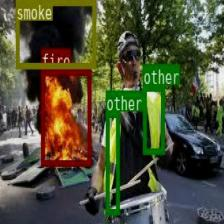fire: (40, 69, 91, 165)
smoke: (15, 0, 96, 68)
